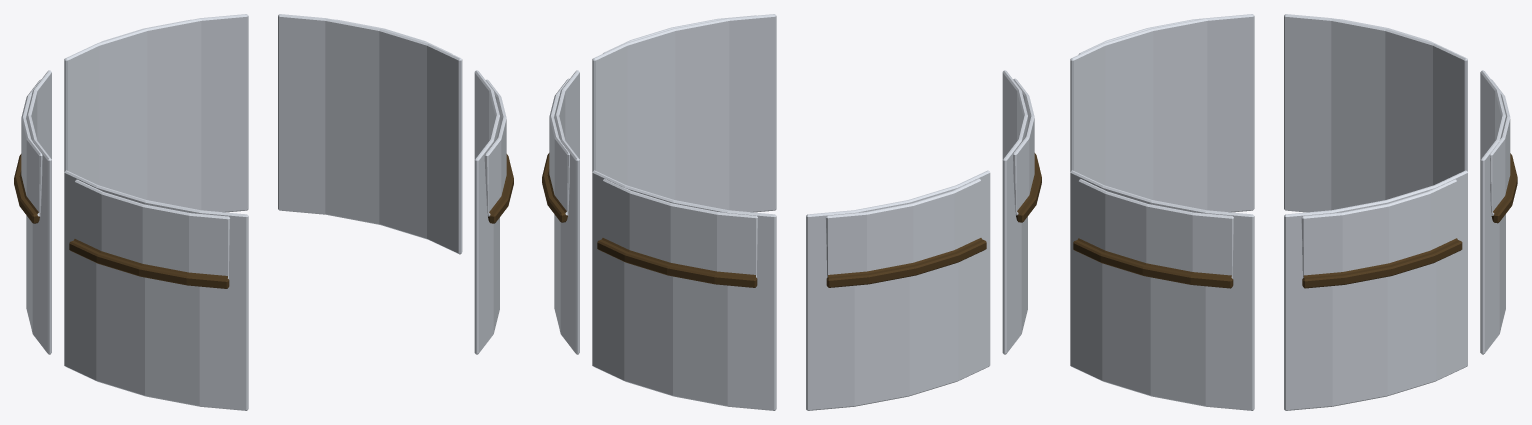
File: Ventanas.fbx
3 views of the same model, side by side, from view 1: azimuth 30°, elevation 25°; view 2: azimuth 150°, elevation 25°; view 3: azimuth 270°, elevation 25° (orthographic).
Visible parts, largest first — view 1: Cylinder.008, Cylinder.004, Cylinder.006, Cylinder.003, Cylinder.007, Cylinder.005; view 2: Cylinder.007, Cylinder.003, Cylinder.004, Cylinder.005, Cylinder.006, Cylinder.008; view 3: Cylinder.006, Cylinder.005, Cylinder.003, Cylinder.007, Cylinder.008, Cylinder.004.
Boxes of the visible parts, x1=… form: Cylinder.008: x1=278, y1=14, x2=462, y2=254; Cylinder.004: x1=64, y1=14, x2=248, y2=212; Cylinder.006: x1=64, y1=170, x2=248, y2=410; Cylinder.003: x1=14, y1=19, x2=513, y2=288; Cylinder.007: x1=474, y1=70, x2=499, y2=354; Cylinder.005: x1=26, y1=70, x2=51, y2=354; Cylinder.007: x1=592, y1=14, x2=776, y2=212; Cylinder.003: x1=542, y1=15, x2=1041, y2=287; Cylinder.004: x1=592, y1=170, x2=776, y2=410; Cylinder.005: x1=806, y1=170, x2=990, y2=410; Cylinder.006: x1=1002, y1=70, x2=1027, y2=354; Cylinder.008: x1=554, y1=70, x2=579, y2=354; Cylinder.006: x1=1070, y1=14, x2=1254, y2=212; Cylinder.005: x1=1284, y1=14, x2=1467, y2=212; Cylinder.003: x1=1073, y1=18, x2=1517, y2=288; Cylinder.007: x1=1070, y1=170, x2=1254, y2=410; Cylinder.008: x1=1284, y1=170, x2=1467, y2=410; Cylinder.004: x1=1480, y1=70, x2=1505, y2=354.
Size of the model in its own units: 3.08 by 2.8 by 1.35.
